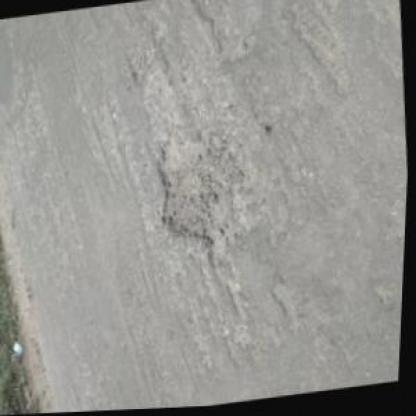pothole: (147, 123, 244, 272)
